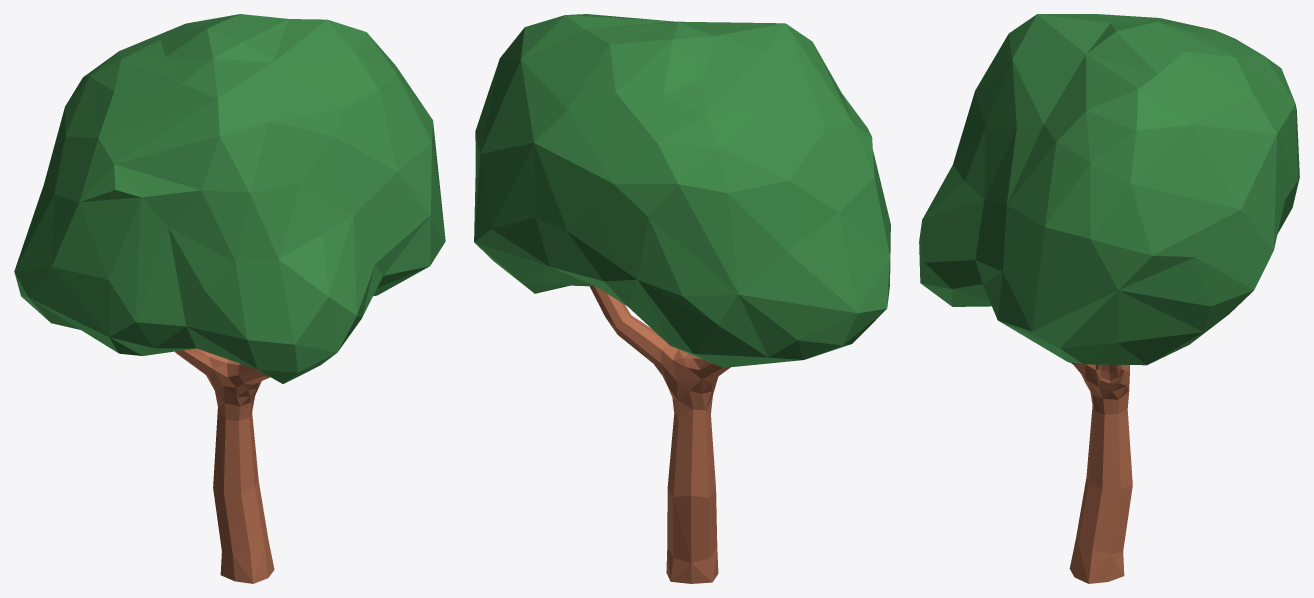
The model's file is Tree04.fbx.
The picture shows the model from 3 angles, left to right: view 1: azimuth 30°, elevation 25°; view 2: azimuth 150°, elevation 25°; view 3: azimuth 270°, elevation 25°; orthographic projection. The views are drawn at different scales.
Parts seen in each view (by area): view 1: Tree_07; view 2: Tree_07; view 3: Tree_07.
Boxes of the visible parts, box(x1,y1,x2,y2) form: Tree_07: box(14, 14, 445, 583); Tree_07: box(474, 14, 890, 583); Tree_07: box(919, 14, 1299, 583).
Bounding box in the file's own units: 378 × 495 × 313.
